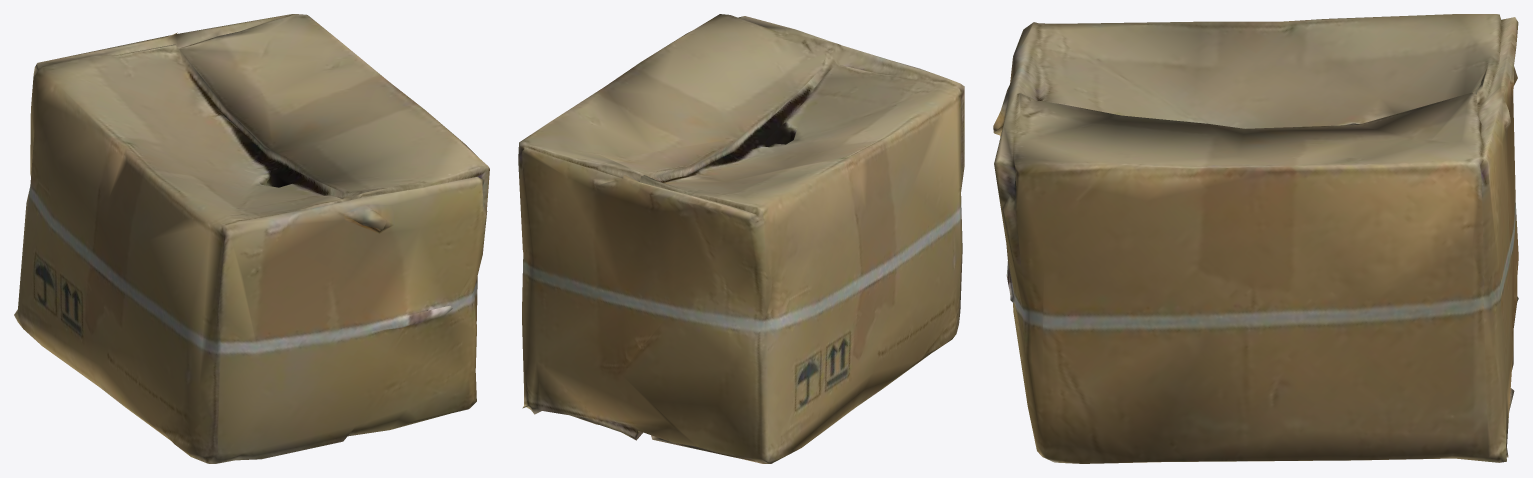
Rendered from cardboard.glb.
3 views of the same model, side by side, from view 1: azimuth 30°, elevation 25°; view 2: azimuth 150°, elevation 25°; view 3: azimuth 270°, elevation 25° (orthographic). The views are drawn at different scales.
Visible parts, largest first — view 1: cardboard_box_01; view 2: cardboard_box_01; view 3: cardboard_box_01.
Part boxes in pixels (box(x1,y1,x2,y2)): cardboard_box_01: box(14, 14, 489, 463); cardboard_box_01: box(518, 14, 964, 463); cardboard_box_01: box(993, 14, 1518, 463).
Bounding box in the file's own units: 0.3855 × 0.3407 × 0.5159.
Materials: 1 (1 with a texture image).
